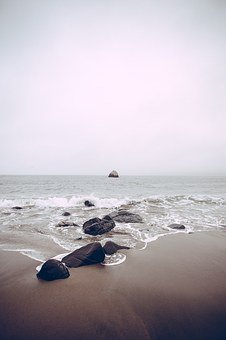beach: (1, 170, 223, 337)
sky: (1, 1, 225, 167)
stone: (31, 202, 141, 274)
